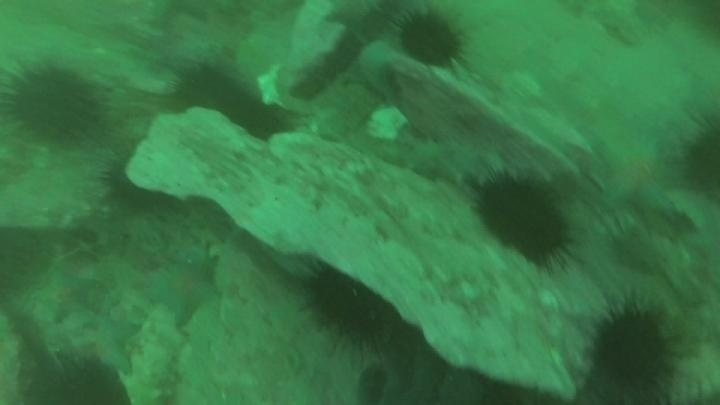echinus: (473, 172, 572, 265), (4, 61, 104, 147), (589, 302, 677, 394), (304, 264, 396, 349), (168, 62, 253, 133), (394, 9, 469, 71), (679, 110, 720, 202), (98, 153, 157, 212), (237, 99, 292, 142)
holothurian: (609, 223, 704, 297), (383, 132, 506, 189), (123, 304, 187, 405)
starfish: (592, 133, 678, 216), (145, 251, 222, 328), (27, 262, 101, 327), (78, 291, 149, 357), (323, 1, 384, 36)
